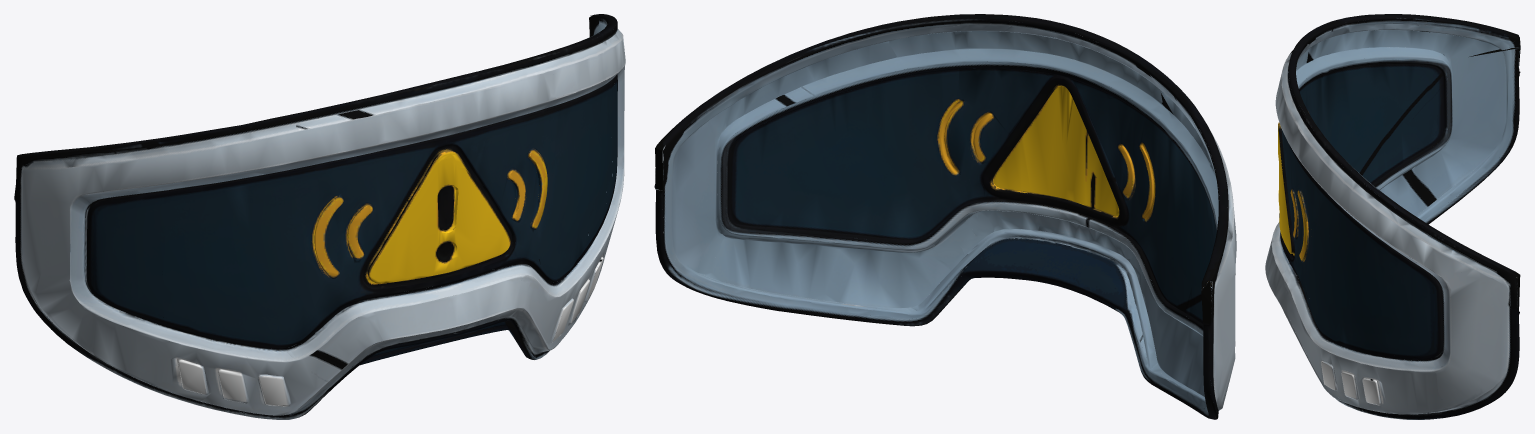
File: watch-sense-final-shrunk.glb
3 renders of one model, left to right at view 1: azimuth 30°, elevation 25°; view 2: azimuth 150°, elevation 25°; view 3: azimuth 270°, elevation 25°, orthographic. The views are drawn at different scales.
Parts seen in each view (by area): view 1: node_0; view 2: node_0; view 3: node_0.
Boxes of the visible parts, x1,y1,x2,y2 form: node_0: [14, 14, 625, 419]; node_0: [654, 14, 1236, 419]; node_0: [1265, 14, 1520, 419].
Bounding box in the file's own units: 0.5404 × 0.2897 × 0.2406.
1 material, 1 textured.
